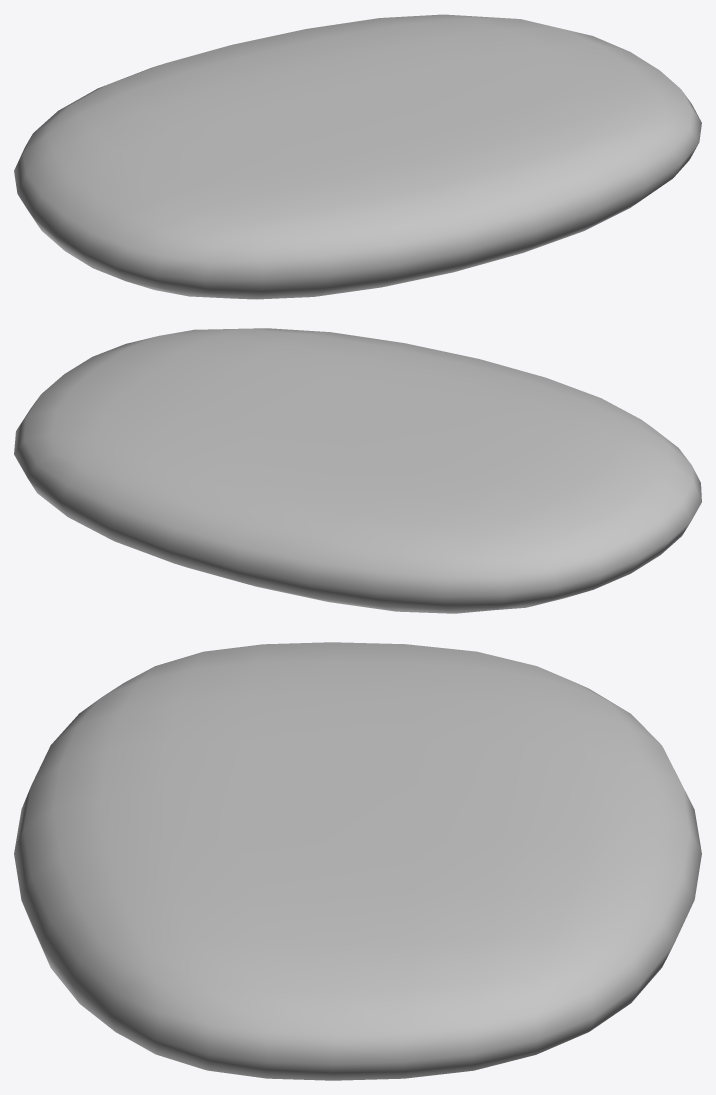
The model's file is Farm_14_Stone_1.glb.
The picture shows the model from 3 angles, top to bottom: view 1: azimuth 30°, elevation 25°; view 2: azimuth 150°, elevation 25°; view 3: azimuth 270°, elevation 25°; orthographic projection. The views are drawn at different scales.
Parts seen in each view (by area): view 1: Farm_14_Stone_1; view 2: Farm_14_Stone_1; view 3: Farm_14_Stone_1.
Boxes of the visible parts, box(x1,y1,x2,y2) form: Farm_14_Stone_1: box(14, 14, 701, 299); Farm_14_Stone_1: box(14, 328, 701, 613); Farm_14_Stone_1: box(14, 642, 701, 1080).
Size of the model in its own units: 1.77 by 0.2526 by 1.28.
1 material, 1 textured.
